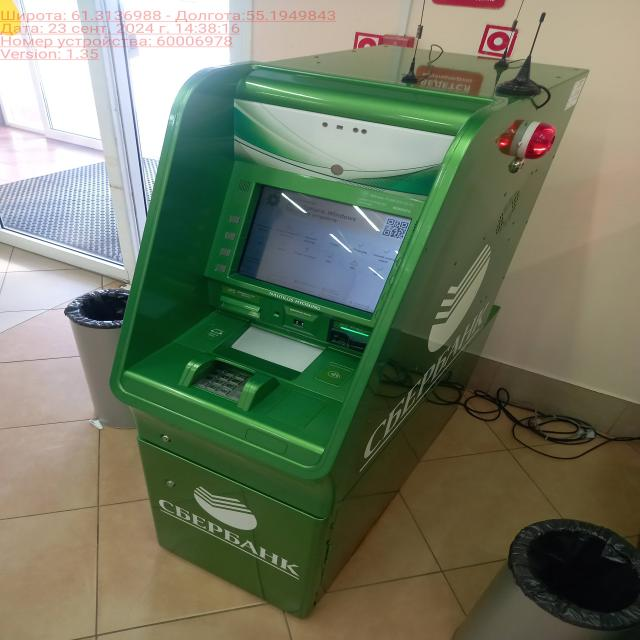bank: (110, 44, 596, 610)
